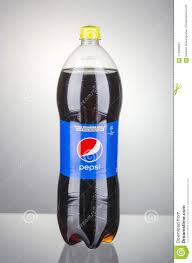pepsi: (76, 138, 104, 164), (77, 166, 107, 172)
